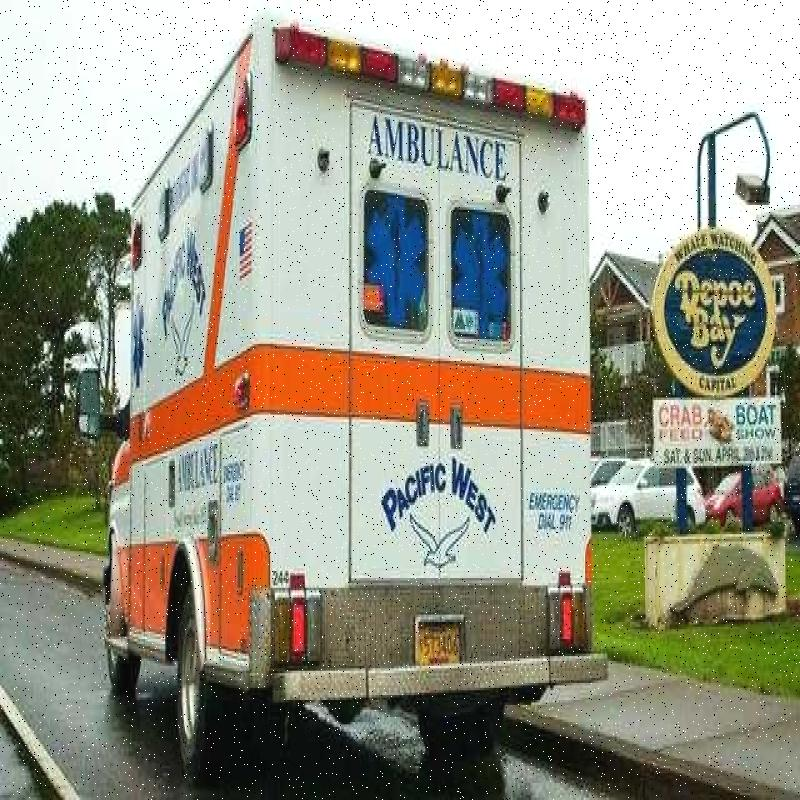AmbulanceSiren: (270, 0, 594, 154)
